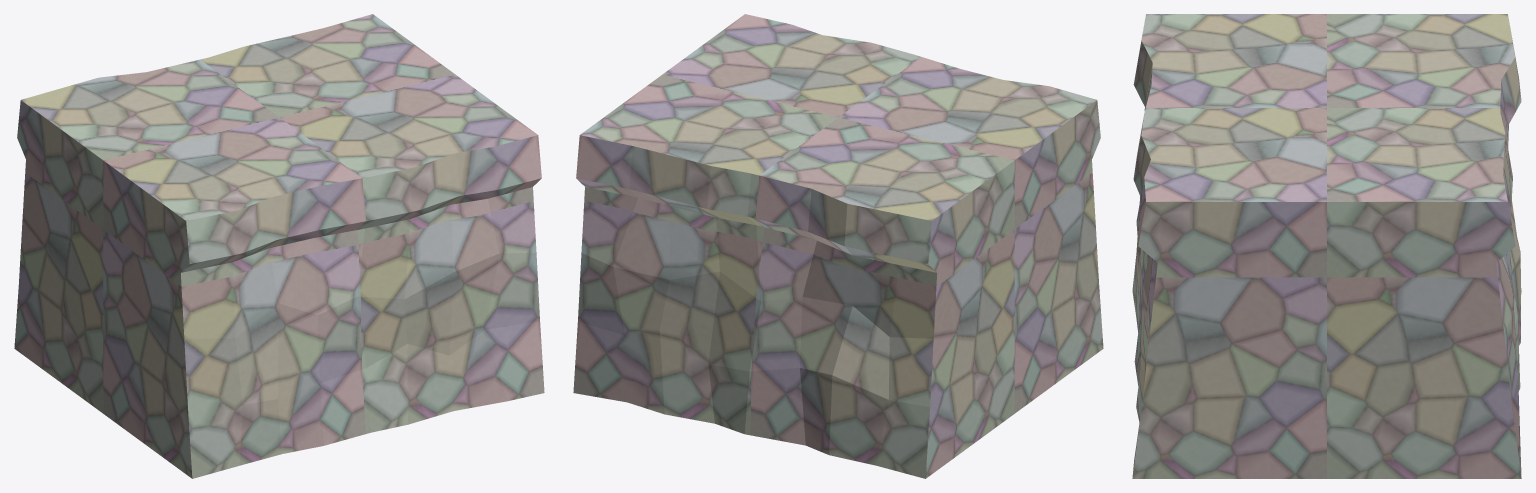
File: 돌담_두꺼움.fbx
3 renders of one model, left to right at view 1: azimuth 30°, elevation 25°; view 2: azimuth 150°, elevation 25°; view 3: azimuth 270°, elevation 25°, orthographic. The views are drawn at different scales.
Visible parts, largest first — view 1: 돌담_두꺼움; view 2: 돌담_두꺼움; view 3: 돌담_두꺼움.
Part boxes in pixels (x1=…): 돌담_두꺼움: x1=14, y1=14, x2=544, y2=478; 돌담_두꺼움: x1=573, y1=14, x2=1103, y2=478; 돌담_두꺼움: x1=1132, y1=14, x2=1521, y2=478.
Size of the model in its own units: 800 by 550 by 700.
1 material, 1 textured.
